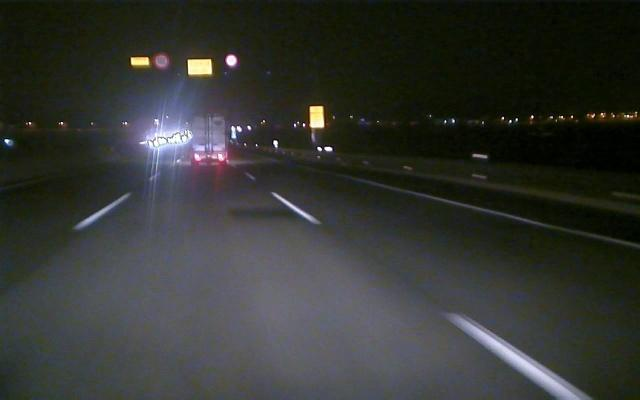lane: (266, 189, 595, 400), (375, 182, 640, 249), (70, 191, 133, 232)
